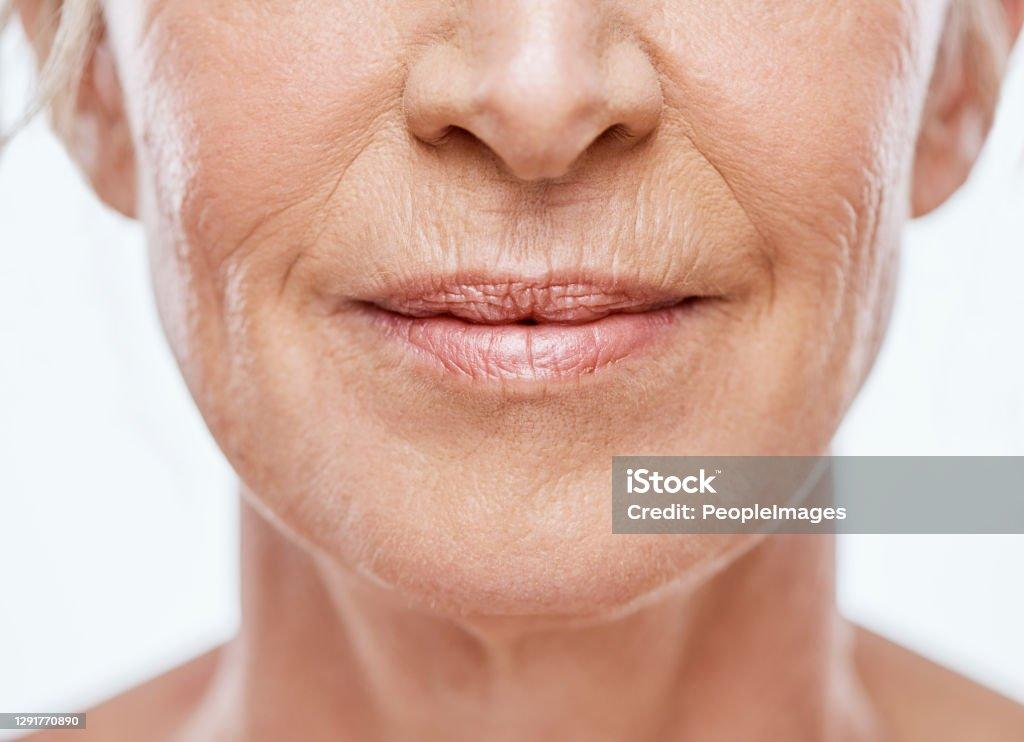Dry-Skin: (644, 30, 932, 436), (130, 34, 368, 468)
